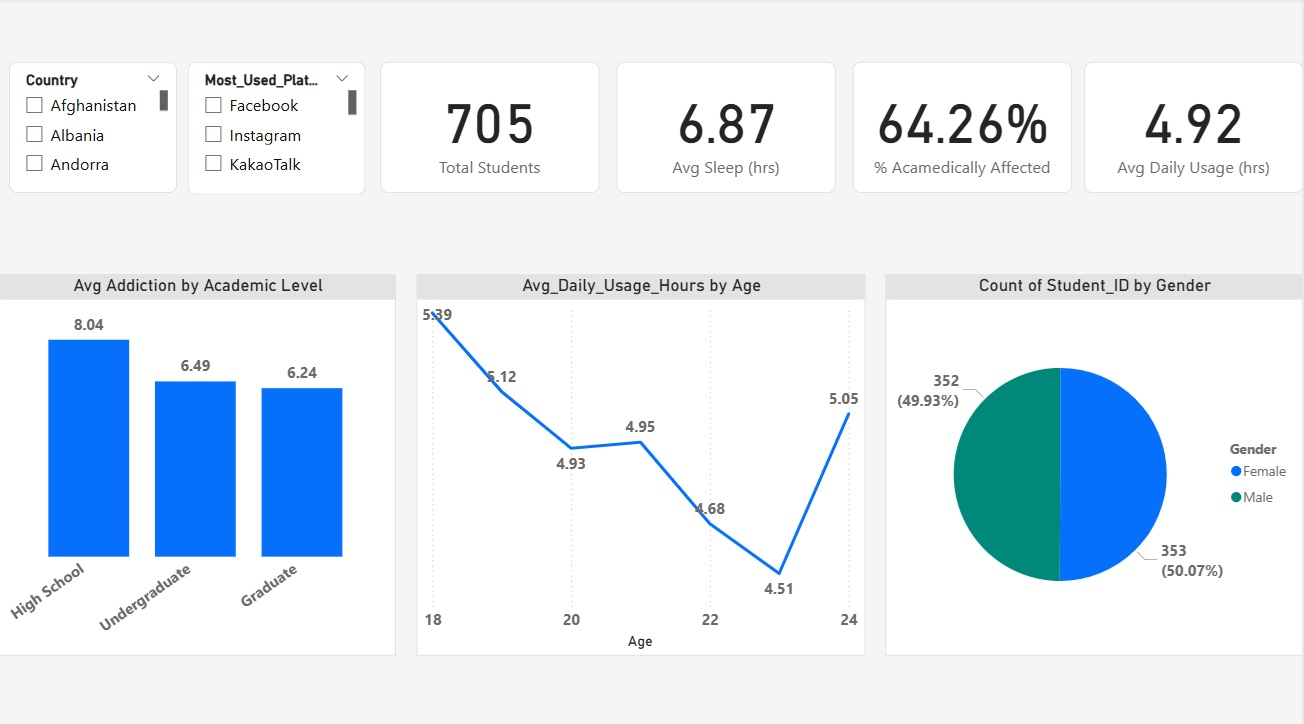

What the dashboard file says about the page in this screenshot:
{"tool":"powerbi","page":{"name":"Overview Dashboard","canvas":[1280,720],"ordinal":0},"visuals":[{"type":"card","fields":{"Values":["CountNonNull(Student Details.Student_ID)"]},"box":[374.6,63.1,215.4,129],"z":0},{"type":"card","fields":{"Values":["Student Details.Avg Usage Hours"]},"box":[1064.8,63.1,215.4,129],"z":1000},{"type":"card","fields":{"Values":["Student Details.% Affected Acamedically"]},"box":[838.4,63.1,215.4,129],"z":2000},{"type":"card","fields":{"Values":["Student Details.Avg Sleep Hours"]},"box":[606.5,63.1,215.4,129],"z":3000},{"type":"columnChart","title":"Avg Addiction by Academic Level","fields":{"Category":["Student Details.Academic_Level"],"Y":["Avg(Student Details.Addicted_Score)"]},"box":[0,270.8,389.7,374.6],"z":4000},{"type":"lineChart","title":"Avg_Daily_Usage_Hours by Age","fields":{"Y":["Avg(Platform Details.Avg_Daily_Usage_Hours)"],"Category":["Student Details.Age"]},"box":[409.6,270.8,440.5,374.6],"z":5000},{"type":"pieChart","fields":{"Category":["Student Details.Gender"],"Y":["CountNonNull(Student Details.Student_ID)"]},"box":[869.7,270.8,410.3,374.6],"z":6000},{"type":"slicer","fields":{"Values":["Student Details.Country"]},"box":[9.6,63.1,164.7,129],"z":7000},{"type":"slicer","fields":{"Values":["Platform Details.Most_Used_Platform"]},"box":[185.3,62.6,174.2,130.1],"z":8000}]}

Visuals, with their boxes in screenshot pixels (x1, y1, x2, y2), scaled from the page's 1280x720 canvas onto the 1304x724 screenshot:
card - CountNonNull(Student Details.Student_ID): BBox(382, 63, 601, 193)
card - Student Details.Avg Usage Hours: BBox(1085, 63, 1303, 193)
card - Student Details.% Affected Acamedically: BBox(854, 63, 1074, 193)
card - Student Details.Avg Sleep Hours: BBox(618, 63, 837, 193)
"Avg Addiction by Academic Level" columnChart: BBox(0, 272, 397, 649)
"Avg_Daily_Usage_Hours by Age" lineChart: BBox(417, 272, 866, 649)
pieChart - Student Details.Gender x CountNonNull(Student Details.Student_ID): BBox(886, 272, 1303, 649)
slicer - Student Details.Country: BBox(10, 63, 178, 193)
slicer - Platform Details.Most_Used_Platform: BBox(189, 63, 366, 194)
